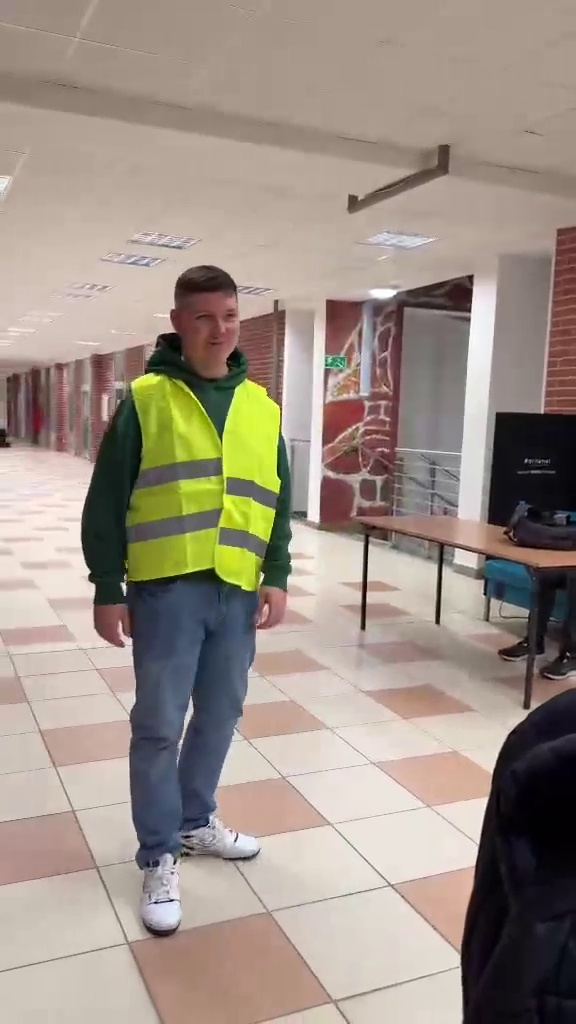vest: (81, 259, 297, 949)
